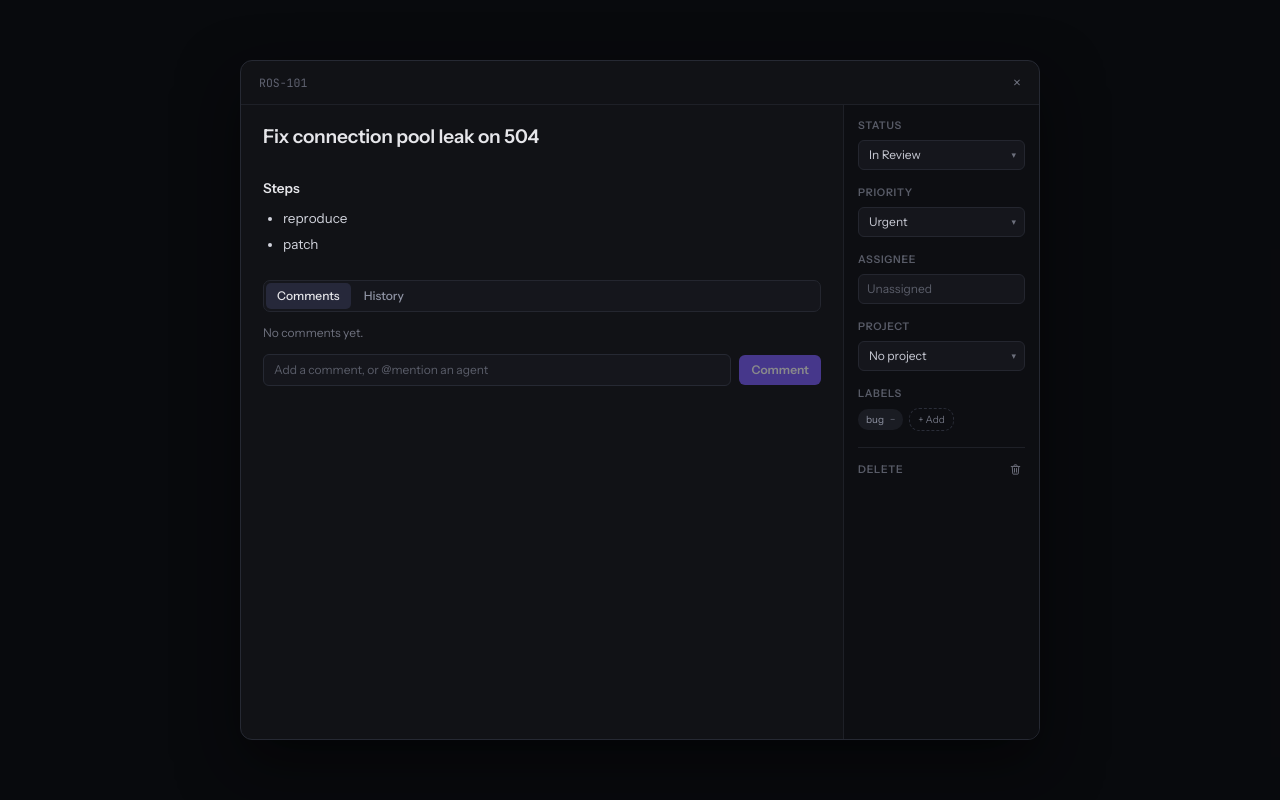
Test: TaskDetailModal — the title › Escape abandons the edit without saving
Click the button "Fix connection pool leak on 504" at (401, 137), box [257,122,827,153]
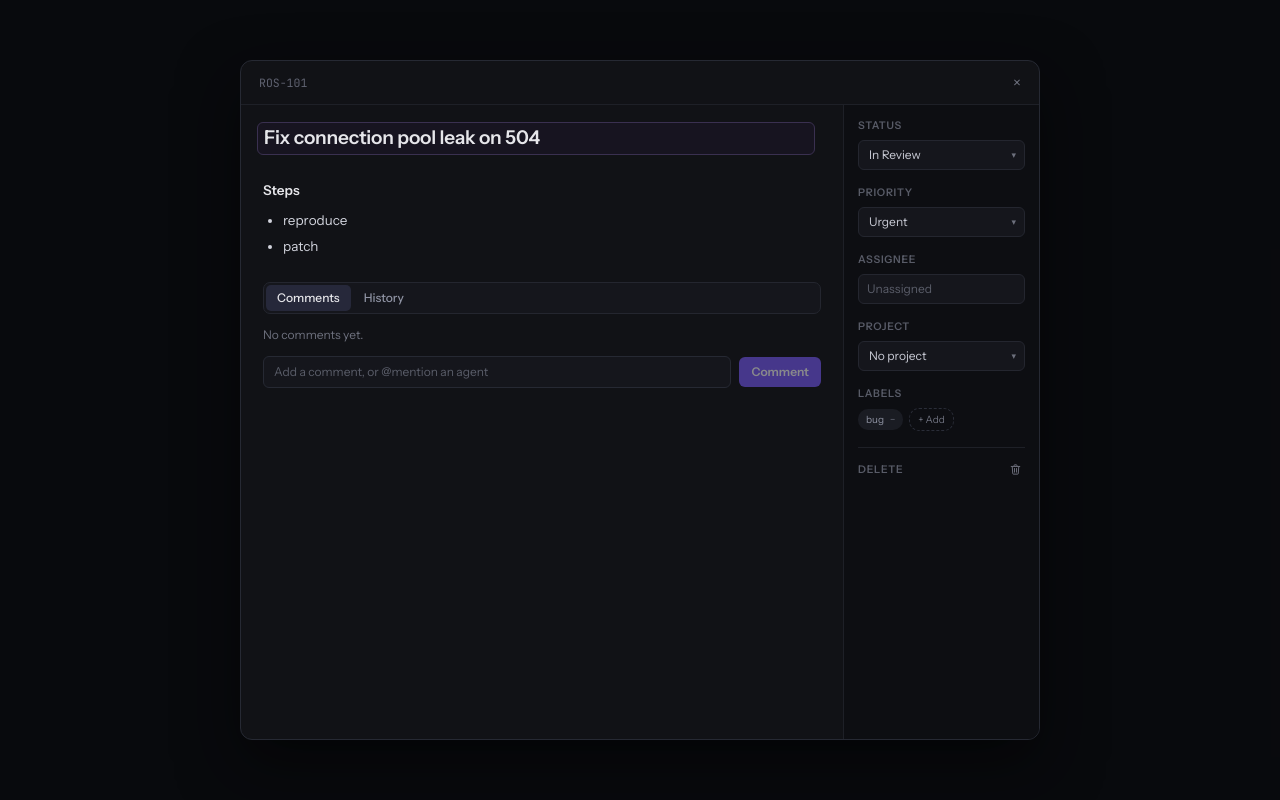
Type " more" into the field named "Task title" at (536, 139), box [257,122,815,155]
Then press Escape
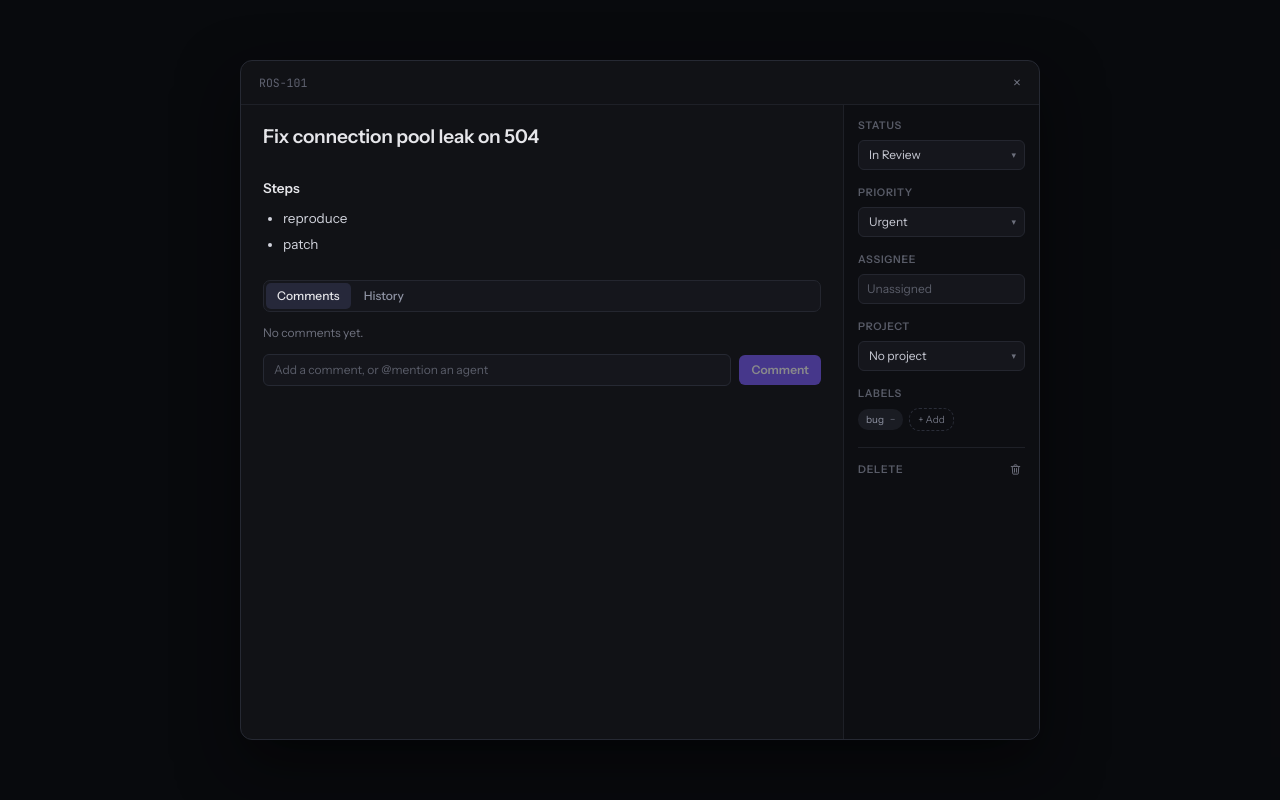
Check: the button "Fix connection pool leak on 504" is shown, box [257,122,827,153]
